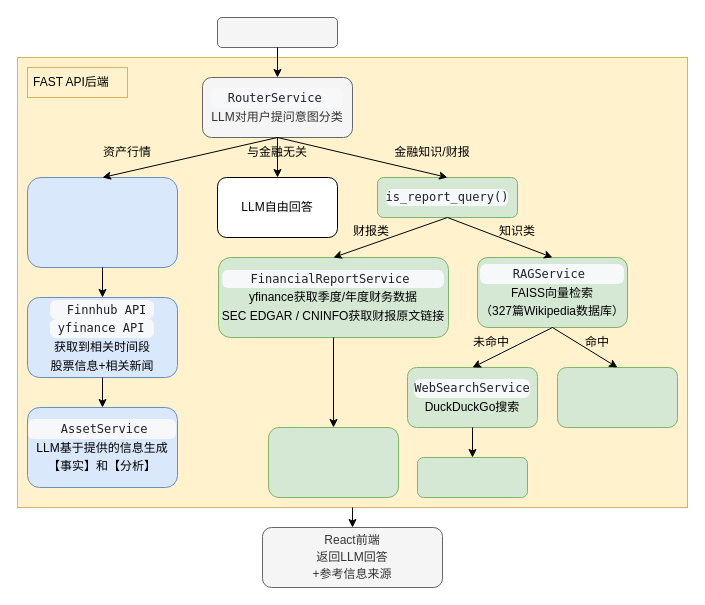
This 705x605 diagram has some shape labels left out. Here are the shapes that lost their labels. From the top down, the centre of each, then its label:
[277,32]: 用户输入
[102,222]: TickerResolver LLM解析公司股票代码 PeriodResolver LLM解析问题时间段
[617,397]: LLM基于数据库信息回答问题
[333,462]: LLM基于财务数据生成结构化分析报告
[472,477]: LLM总结
